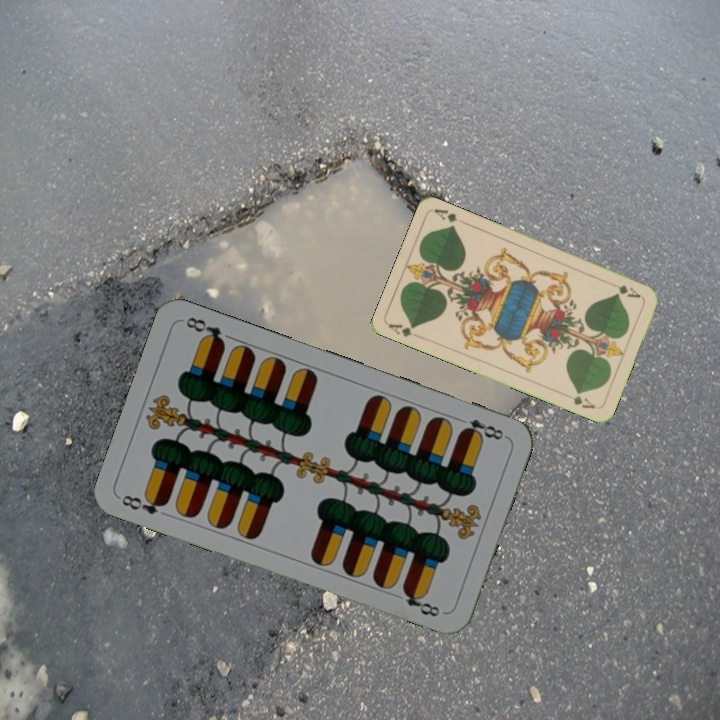E8: (457, 414, 509, 443), (117, 490, 171, 517)
GA: (605, 278, 643, 301), (385, 320, 418, 339)
